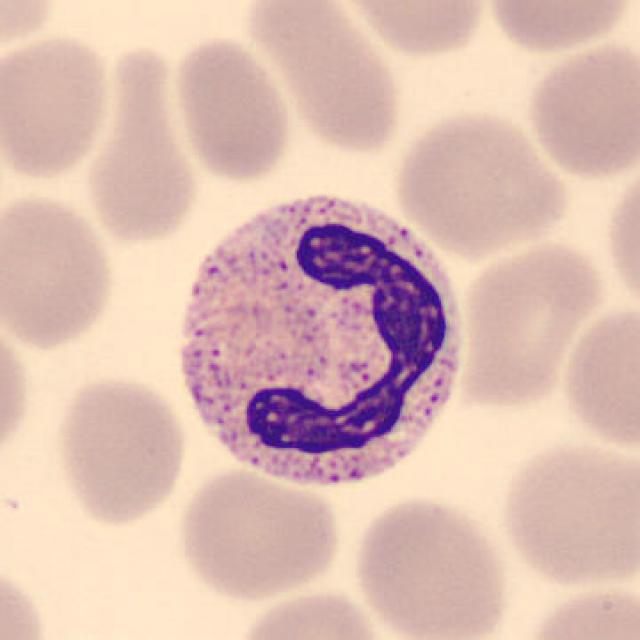Neutrophil: (156, 176, 480, 509), (156, 176, 480, 508)
RBC: (390, 106, 572, 259), (452, 234, 608, 411), (242, 0, 407, 157), (81, 44, 202, 250), (346, 492, 514, 640), (172, 464, 345, 604), (50, 372, 192, 529), (496, 436, 638, 590), (0, 187, 121, 353), (169, 32, 297, 185), (0, 30, 116, 183), (523, 37, 638, 183), (556, 301, 640, 455), (332, 0, 490, 60), (231, 585, 393, 640), (479, 0, 636, 56), (522, 580, 640, 640), (601, 153, 640, 324), (0, 314, 34, 472), (0, 557, 52, 640), (0, 0, 64, 58)
